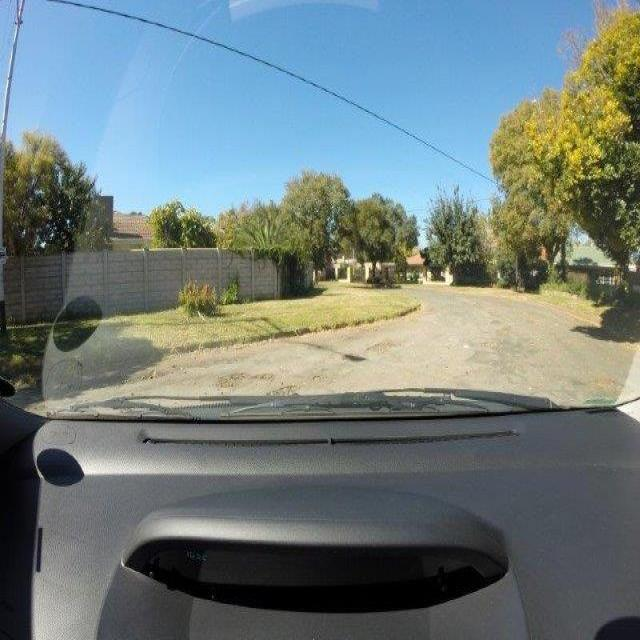lubang: (209, 364, 270, 393), (365, 333, 417, 356), (120, 368, 182, 386), (592, 372, 630, 392), (267, 380, 300, 396), (481, 336, 506, 352), (311, 372, 323, 388)
